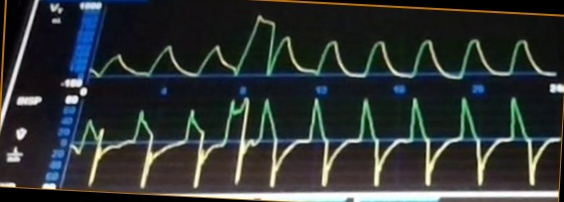Double_Triggering Flow: (69, 96, 538, 189)
Double_Triggering Volume: (94, 14, 522, 81)
